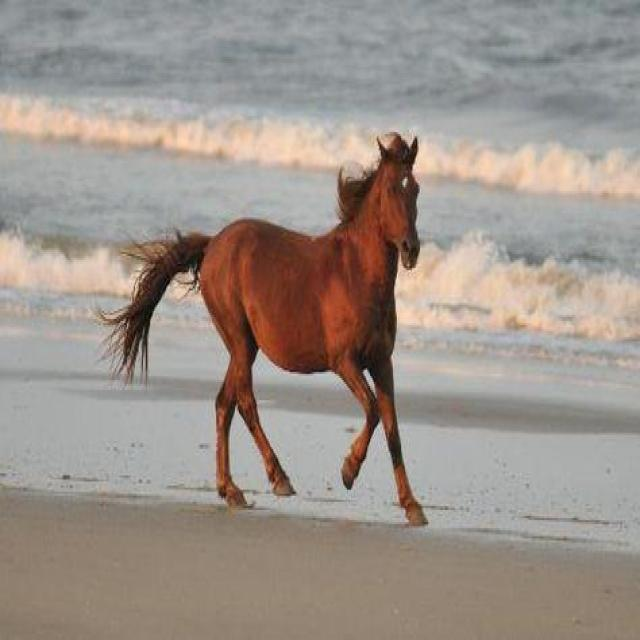horse: (90, 130, 430, 526)
